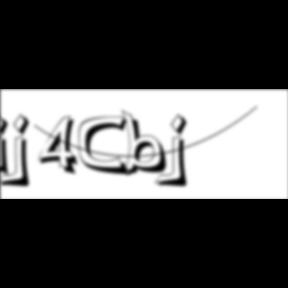4: (37, 115, 84, 179)
C: (79, 115, 134, 178)
b: (121, 109, 174, 179)
i: (0, 112, 16, 180)
j: (10, 113, 37, 191), (168, 113, 194, 191)
